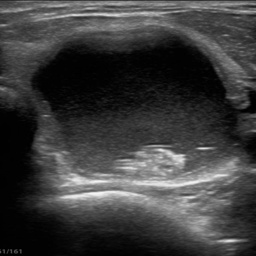mass: (34, 36, 233, 177)
